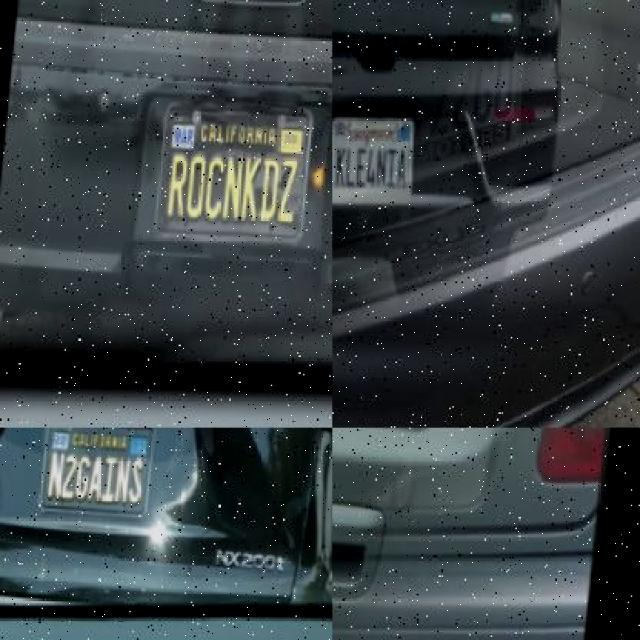licenseplate: (155, 103, 316, 254), (332, 428, 446, 523), (41, 428, 157, 520), (334, 113, 413, 205)
